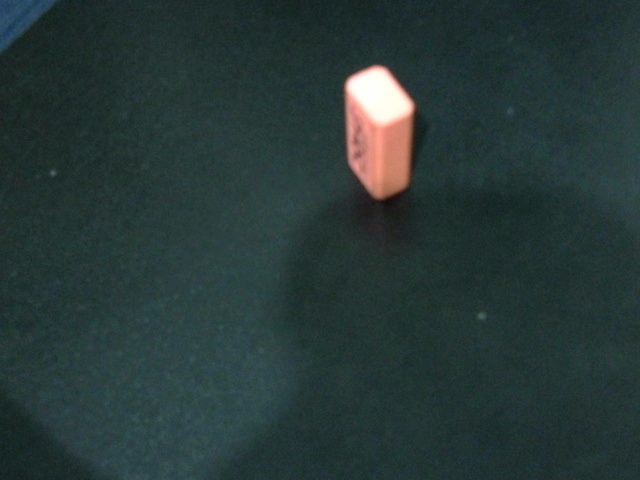eraser: (307, 55, 444, 209)
